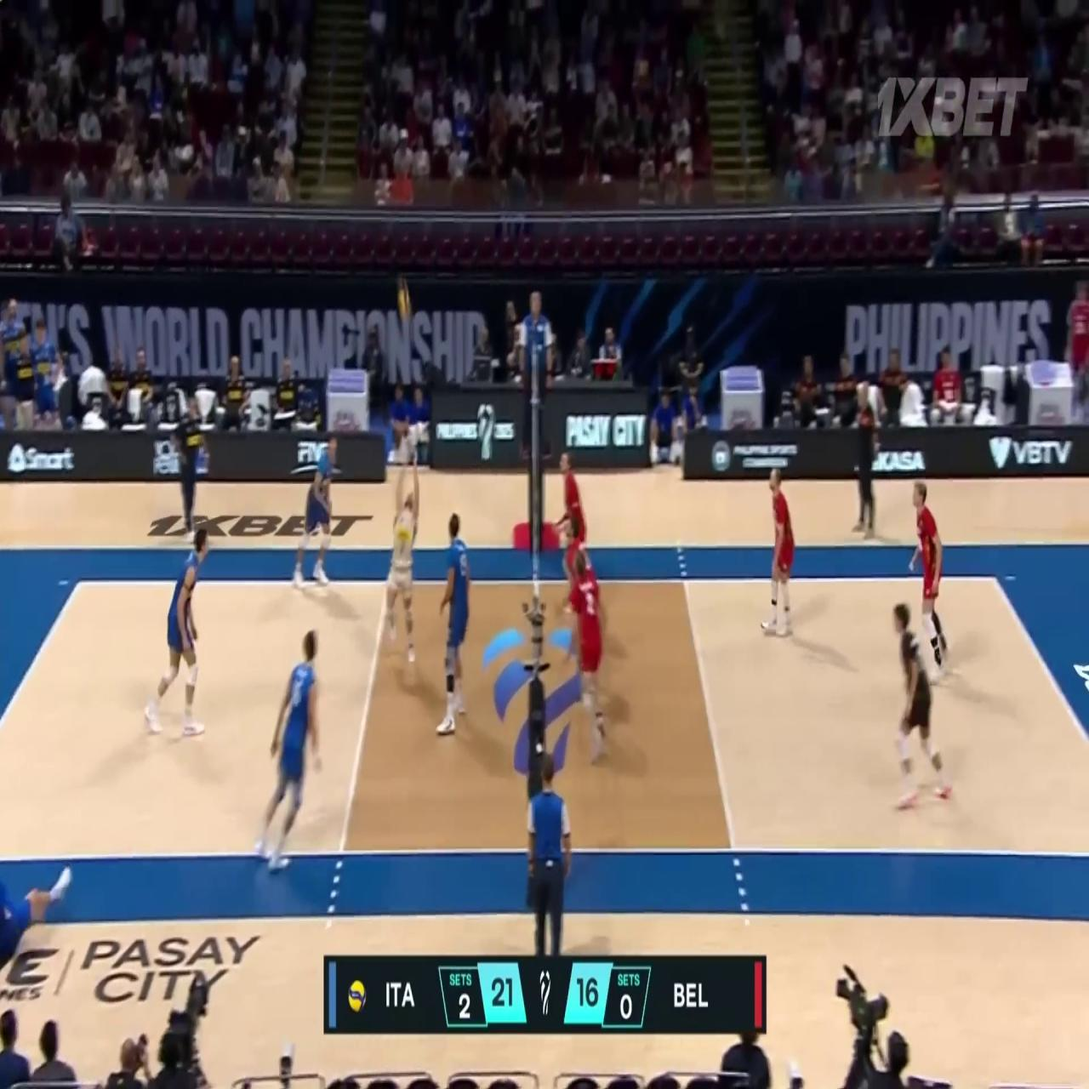ball: (396, 284, 411, 320)
